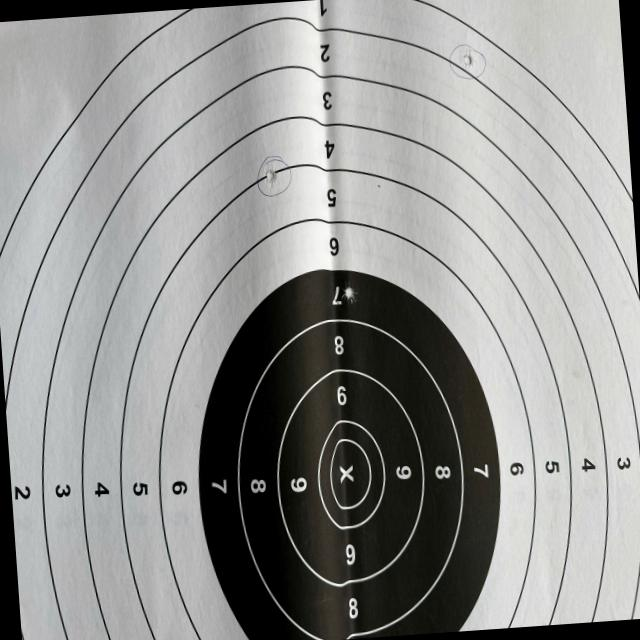bullet: (264, 162, 278, 188), (460, 47, 474, 71), (344, 286, 353, 300)
target: (0, 0, 640, 640)
